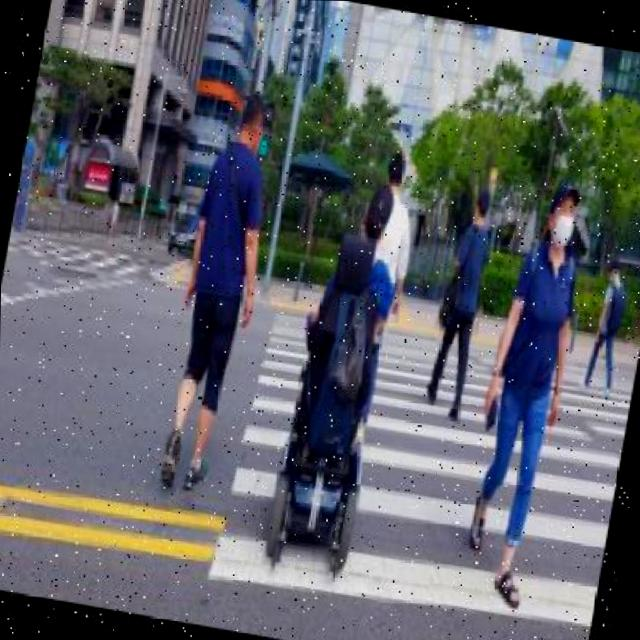Person: (258, 177, 417, 575), (452, 173, 598, 604), (150, 85, 291, 500), (421, 183, 502, 424), (584, 252, 638, 396)
